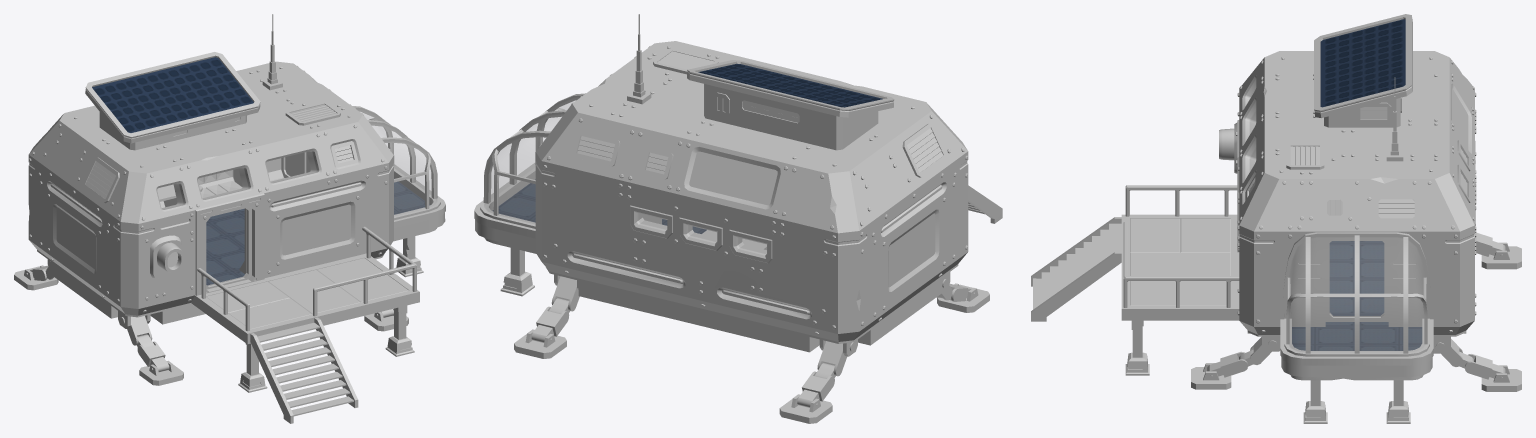
Rendered from SM_Module_02.fbx.
The picture shows the model from 3 angles, left to right: view 1: azimuth 30°, elevation 25°; view 2: azimuth 150°, elevation 25°; view 3: azimuth 270°, elevation 25°; orthographic projection. The views are drawn at different scales.
Visible parts, largest first — view 1: SM_Module_02_LOD0; view 2: SM_Module_02_LOD0; view 3: SM_Module_02_LOD0.
Boxes of the visible parts, bbox=[...] form: SM_Module_02_LOD0: bbox=[14, 14, 445, 423]; SM_Module_02_LOD0: bbox=[474, 14, 1002, 423]; SM_Module_02_LOD0: bbox=[1031, 14, 1521, 423].
Bounding box in the file's own units: 10.64 × 7.51 × 11.67.
